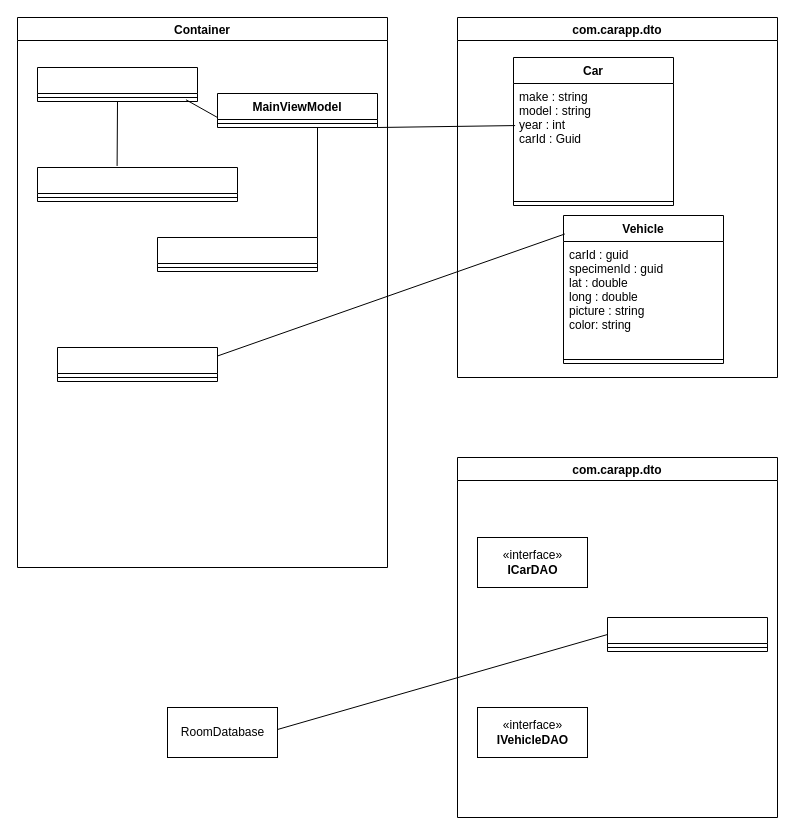
This 795x835 diagram has some shape labels left out. The shapes that lost their labels are listed below. From the top down, each one's centre as x and y in pixels, then its label:
At (x=117, y=84): "MainActivity".
At (x=137, y=184): "ContextAwareViewModel".
At (x=237, y=254): "RetroClientInstance".
At (x=137, y=364): "CreateOrEditVehicleActivity".
At (x=687, y=634): "AppDatabase".
